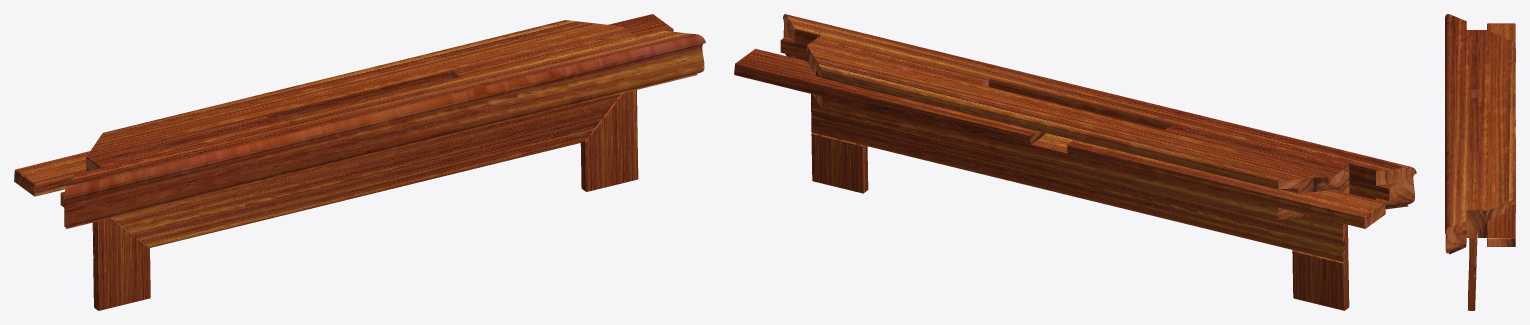
Rendered from GMY_J_H_dabian_02.FBX.
The picture shows the model from 3 angles, left to right: view 1: azimuth 30°, elevation 25°; view 2: azimuth 150°, elevation 25°; view 3: azimuth 270°, elevation 25°; orthographic projection. The views are drawn at different scales.
Parts seen in each view (by area): view 1: GMY_J_dabian_02; view 2: GMY_J_dabian_02; view 3: GMY_J_dabian_02.
Part boxes in pixels (left/top/right/bottom): GMY_J_dabian_02: left=14, top=14, right=705, bottom=310; GMY_J_dabian_02: left=734, top=14, right=1416, bottom=310; GMY_J_dabian_02: left=1445, top=14, right=1515, bottom=310.
Bounding box in the file's own units: 57.88 × 12.47 × 8.01.
